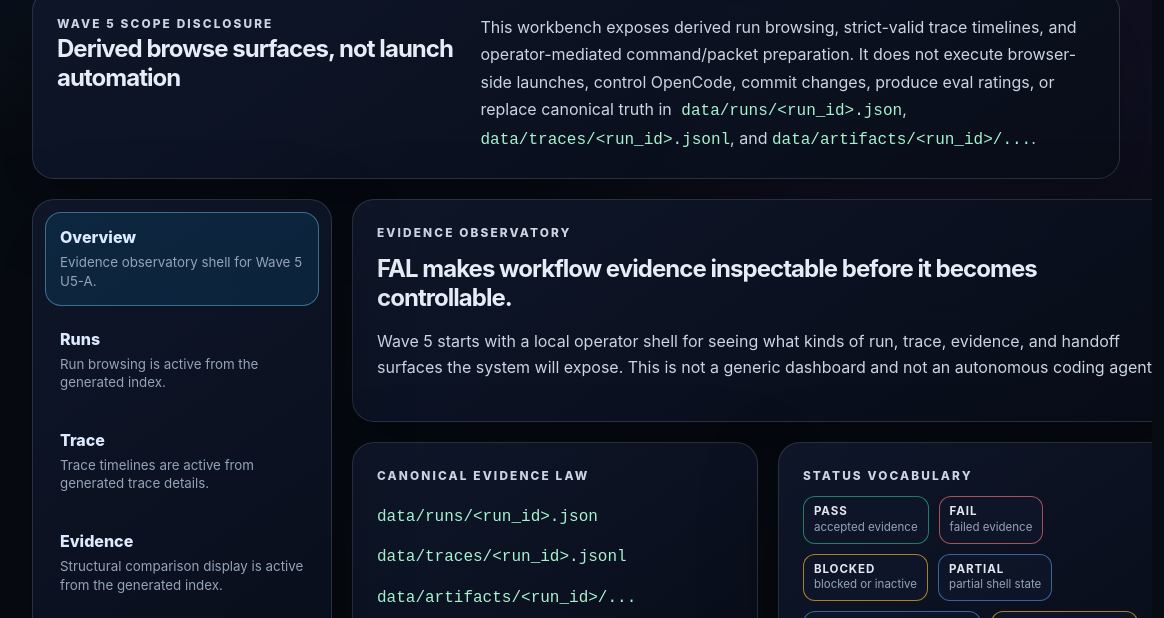
U5-A workbench shell › rejects same-version run index when nested rendered fields are malformed
(page scrolled)
Click the button "Runs Run browsing is active from the generated index." at (182, 360), box [45,314,319,407]
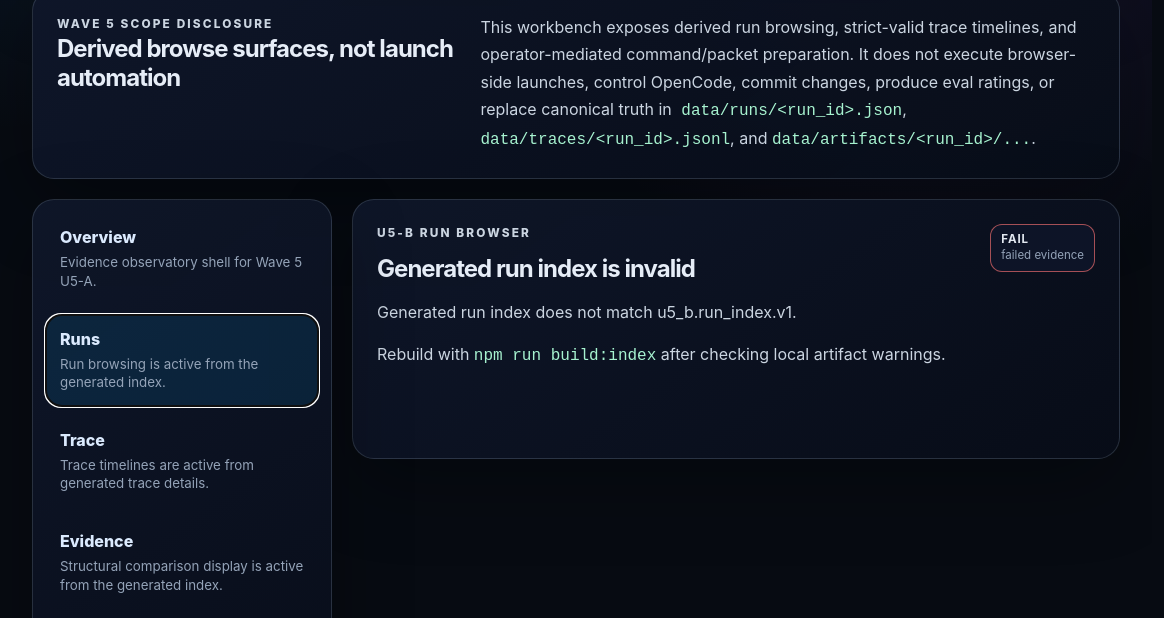
Result: the heading "Generated run index is invalid" is shown at [377,254,695,283]
